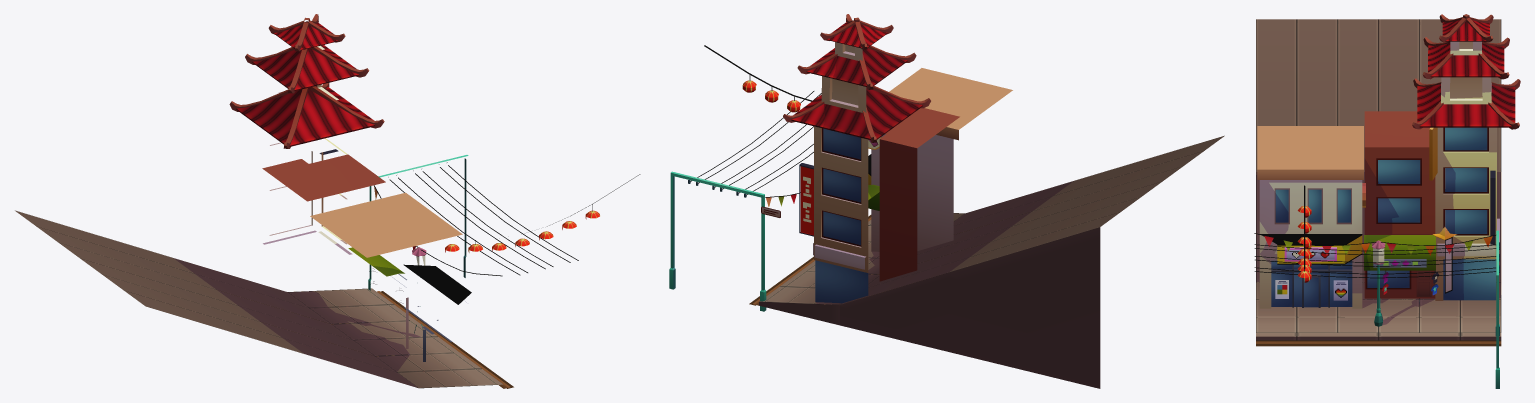
The model's file is 1.100_SanFrancisco_med_01_right.glb.
3 views of the same model, side by side, from view 1: azimuth 30°, elevation 25°; view 2: azimuth 150°, elevation 25°; view 3: azimuth 270°, elevation 25° (orthographic). The views are drawn at different scales.
Parts seen in each view (by area): view 1: 1.100_SanFrancisco_med_01_right; view 2: 1.100_SanFrancisco_med_01_right; view 3: 1.100_SanFrancisco_med_01_right.
Boxes of the visible parts, left/top/right/bottom form: 1.100_SanFrancisco_med_01_right: left=15, top=14, right=640, bottom=388; 1.100_SanFrancisco_med_01_right: left=669, top=14, right=1224, bottom=388; 1.100_SanFrancisco_med_01_right: left=1254, top=14, right=1520, bottom=388.
Size of the model in its own units: 412 by 237 by 196.
Materials: 3 (3 with a texture image).
